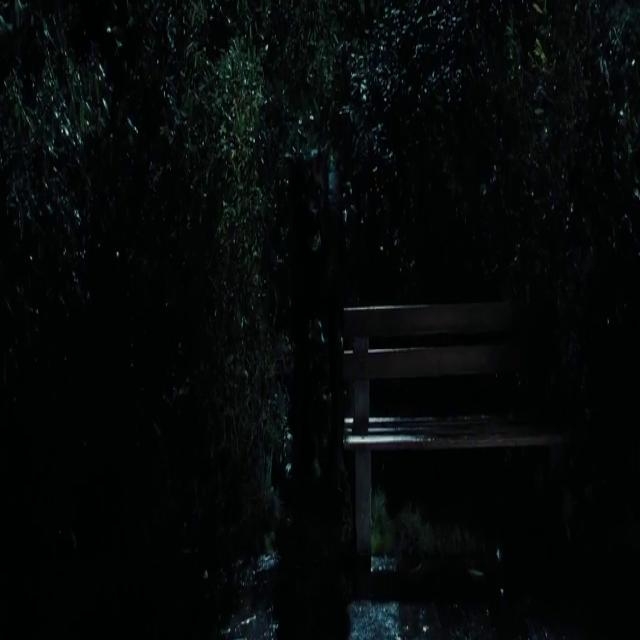chair: (327, 223, 640, 640)
